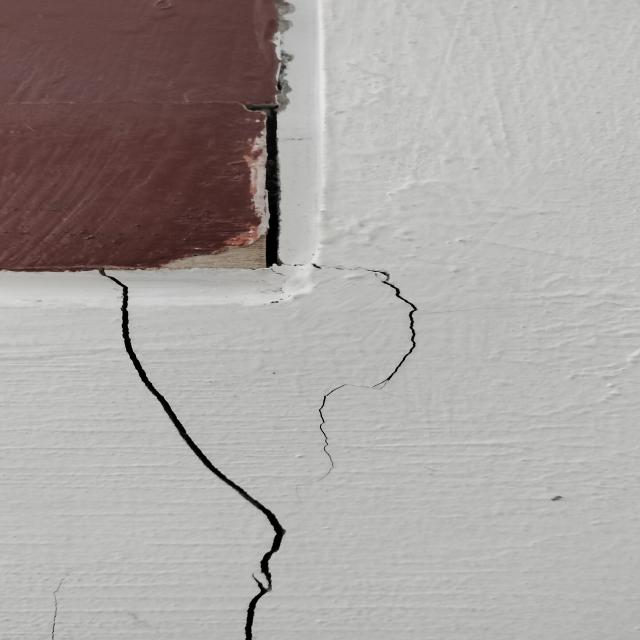Crack: (104, 275, 290, 640), (308, 262, 422, 486)
